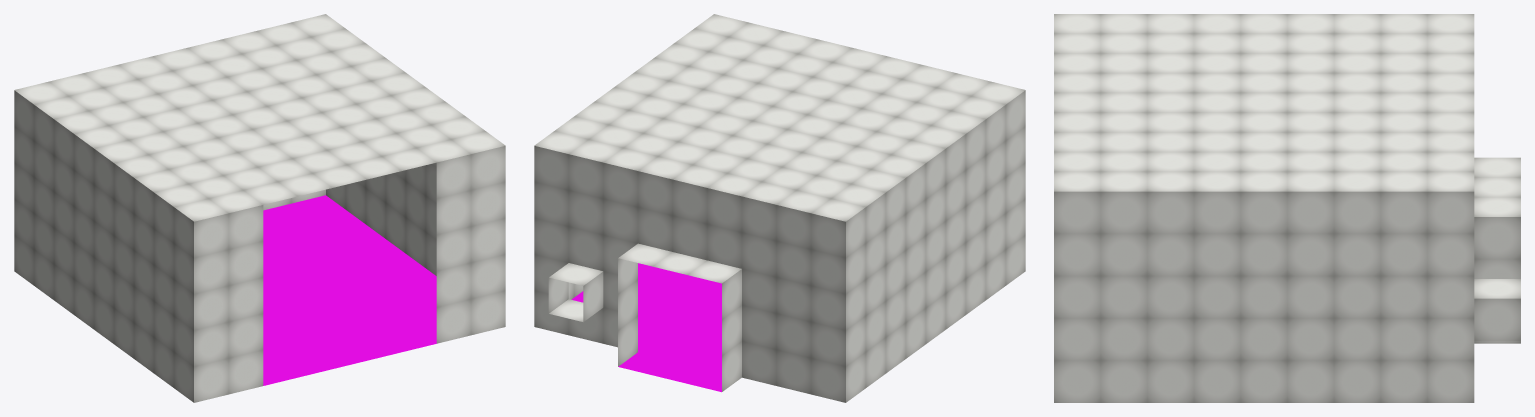
The model's file is slotting.fbx.
The picture shows the model from 3 angles, left to right: view 1: azimuth 30°, elevation 25°; view 2: azimuth 150°, elevation 25°; view 3: azimuth 270°, elevation 25°; orthographic projection. The views are drawn at different scales.
Parts seen in each view (by area): view 1: slotting; view 2: slotting; view 3: slotting.
Boxes of the visible parts, bbox=[...] form: slotting: bbox=[14, 14, 505, 402]; slotting: bbox=[534, 14, 1025, 402]; slotting: bbox=[1054, 14, 1520, 402].
Bounding box in the file's own units: 10 × 9 × 5.
Materials: 2 (1 with a texture image).
